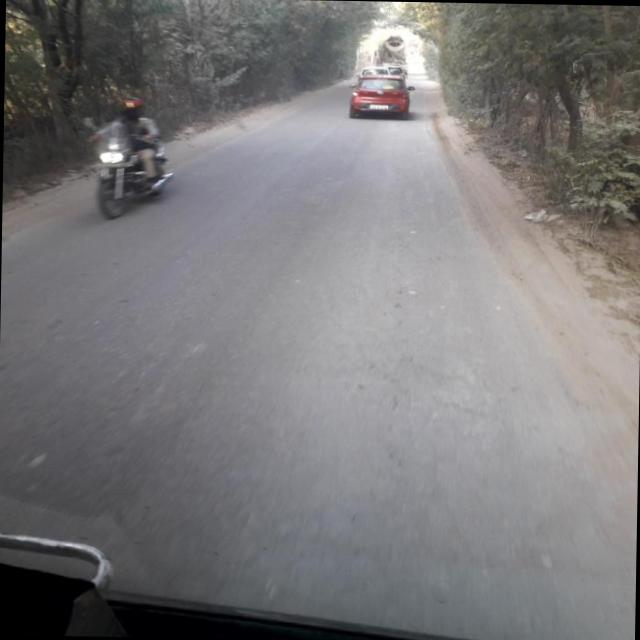crack: (170, 129, 544, 612)
